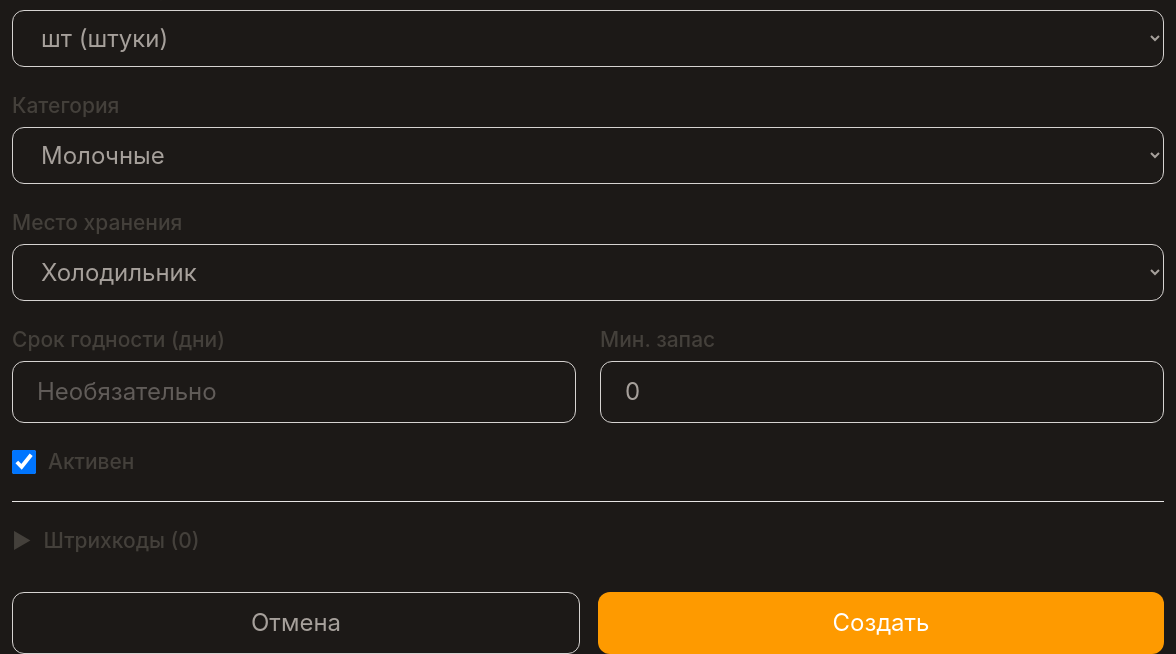
ProductForm › validates required name field
(page scrolled)
Note: Submit without filling name
Click the button "Создать".
click(881, 623)  # box [598, 592, 1164, 653]
(page scrolled)
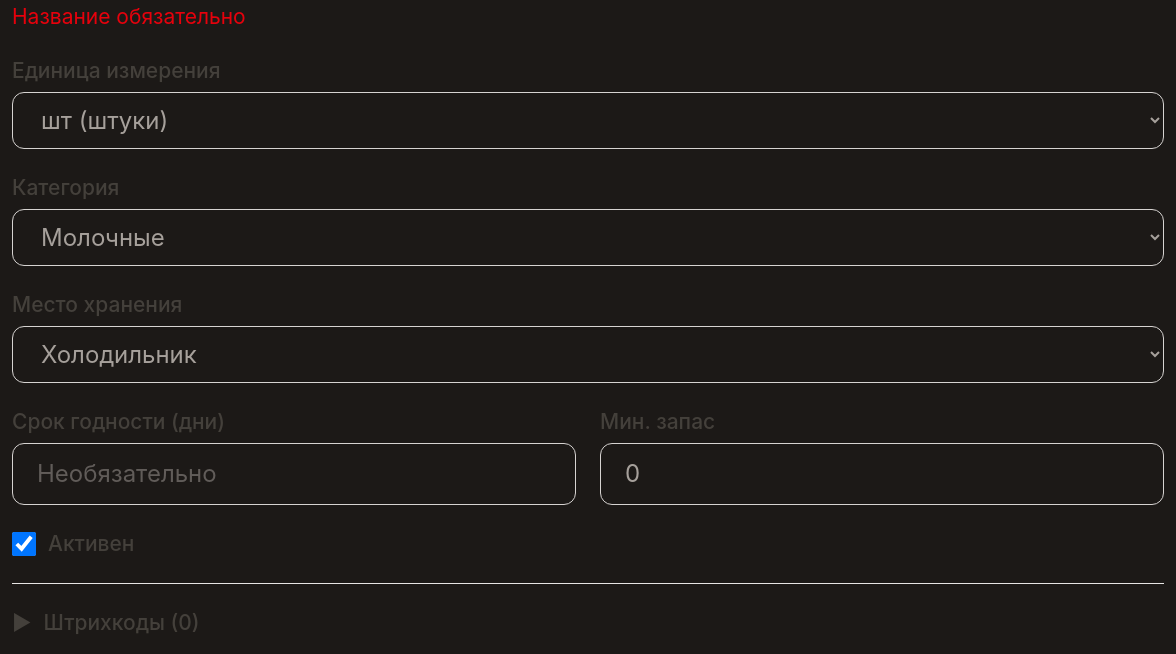
Expected: the text "Название обязательно" is shown, [12, 4, 246, 29]
